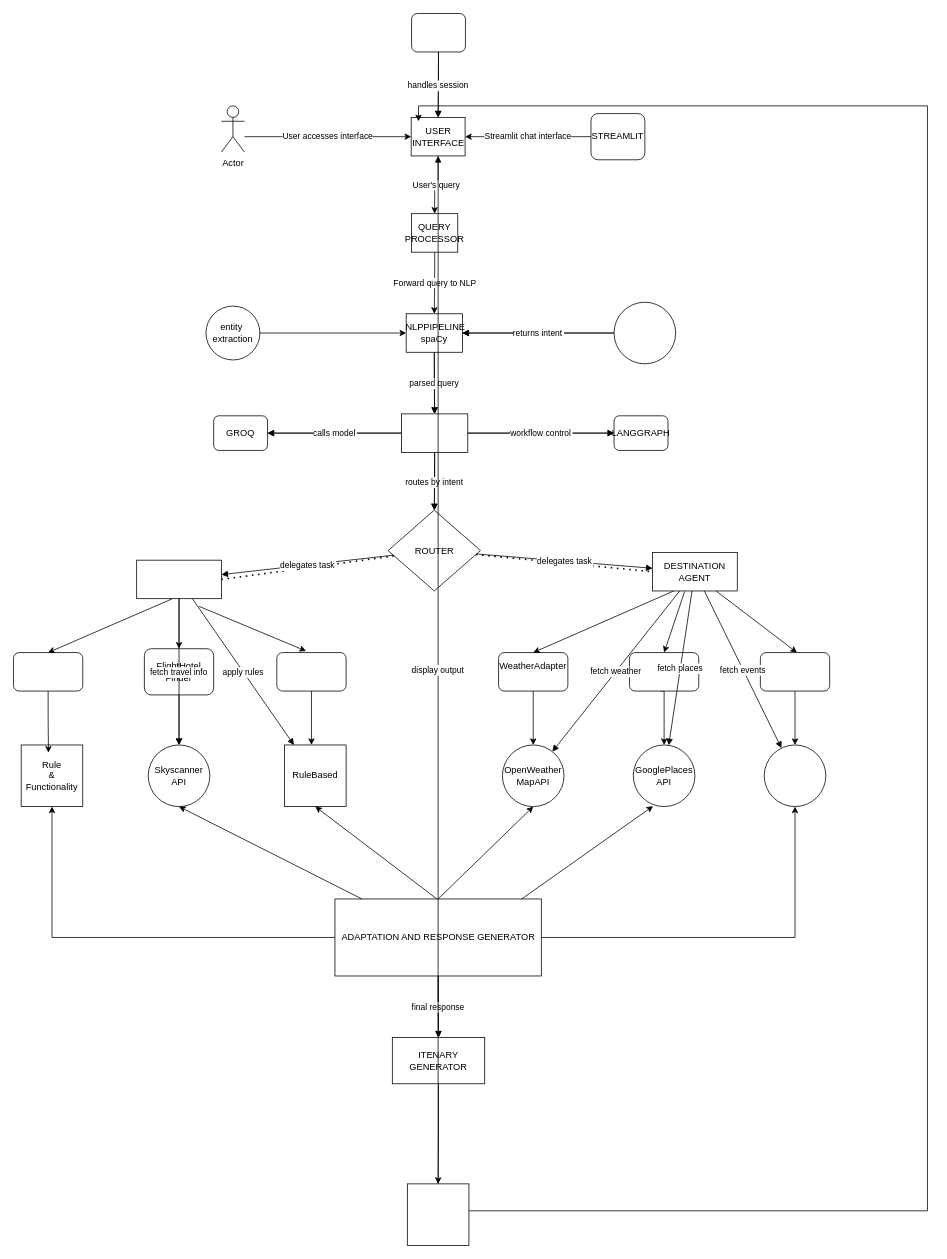
Some shapes in this 947 by 1259 pixel diagram are drawn without their labels. Each missing label, with the centre of its shape:
"BudgetEstimator Tool" goes at point (48, 671).
"Destination Recommender Tool" goes at point (664, 671).
"intent classification" goes at point (644, 332).
"LANGCHAIN AGENT" goes at point (434, 432).
"LocalEventsTool" goes at point (795, 671).
"LOGISTICS AGENT" goes at point (178, 579).
"SESSION MANAGER" goes at point (438, 32).
"UI Render FINAL OUTPUT" goes at point (438, 1214).
"VisaPackingTool" goes at point (311, 671).
"yelpAPI" goes at point (794, 775).
